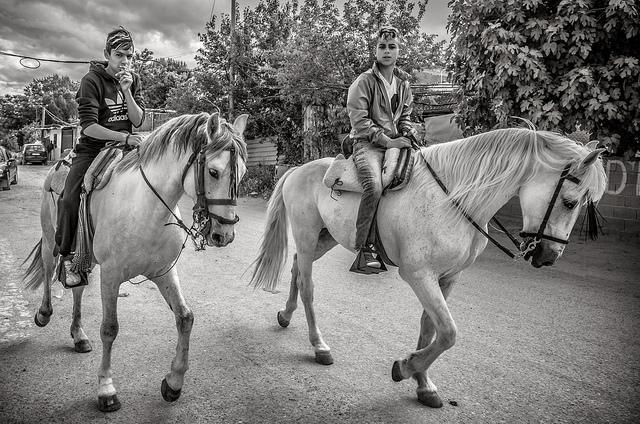car: (0, 148, 15, 189), (22, 144, 48, 164)
